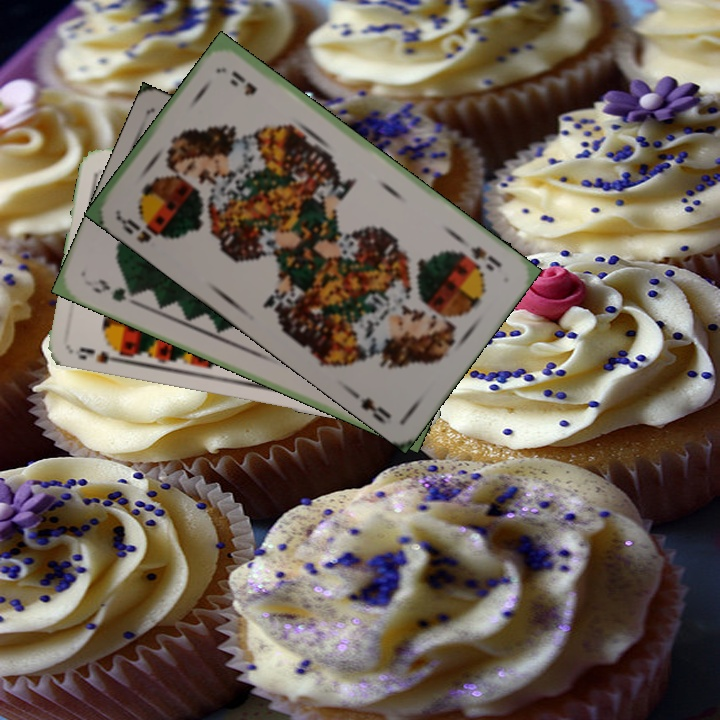G9: (89, 275, 140, 308)
S9: (74, 343, 129, 366)
SO: (113, 207, 171, 246), (466, 242, 504, 274)
